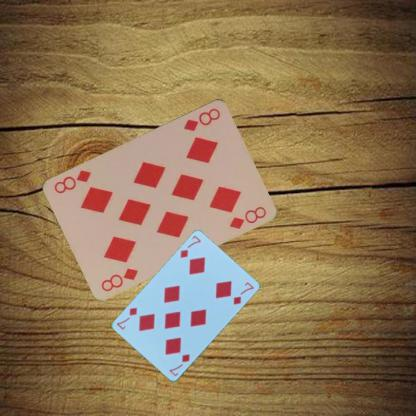7d: (166, 351, 192, 378), (178, 233, 202, 260)
8d: (98, 264, 139, 293), (181, 105, 222, 132)
